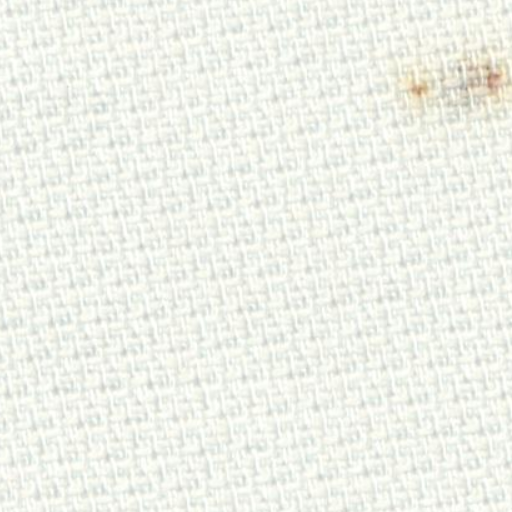WuZi: (388, 30, 504, 135)
